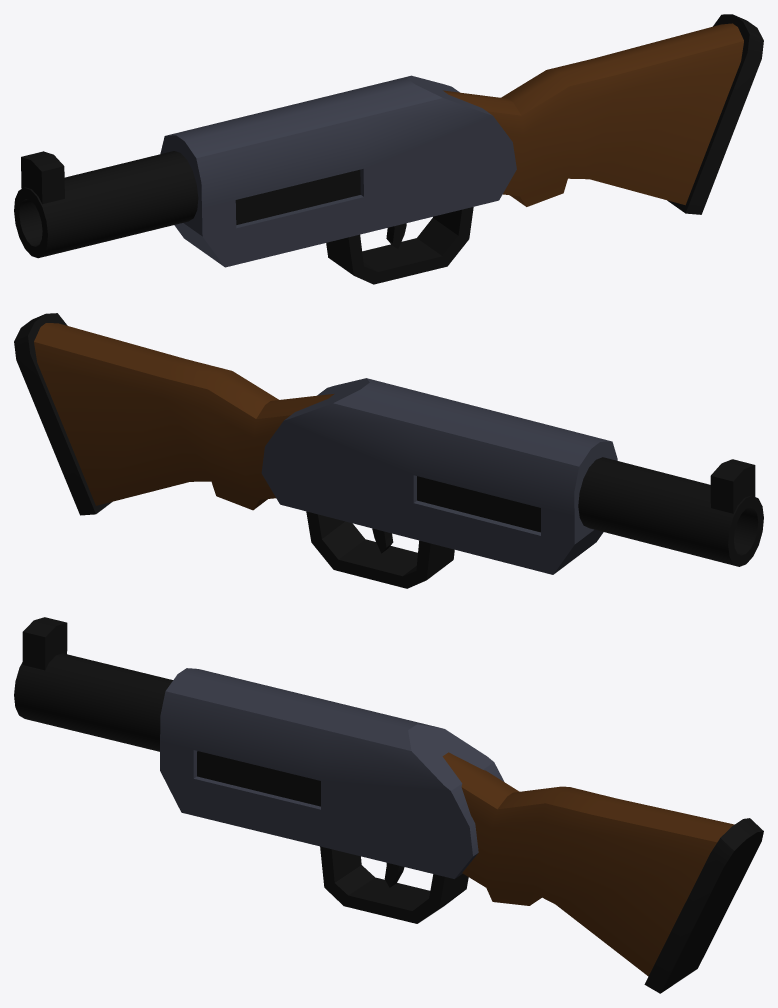
Rendered from ShortCannon.obj.
The picture shows the model from 3 angles, top to bottom: view 1: azimuth 30°, elevation 25°; view 2: azimuth 150°, elevation 25°; view 3: azimuth 330°, elevation 25°; orthographic projection.
Parts seen in each view (by area): view 1: ShortCannon_Cube.000; view 2: ShortCannon_Cube.000; view 3: ShortCannon_Cube.000.
Boxes of the visible parts, left/top/right/bottom form: ShortCannon_Cube.000: left=14, top=14, right=763, bottom=284; ShortCannon_Cube.000: left=14, top=313, right=763, bottom=588; ShortCannon_Cube.000: left=14, top=617, right=763, bottom=993.
Bounding box in the file's own units: 1.21 × 0.3141 × 0.1318.
